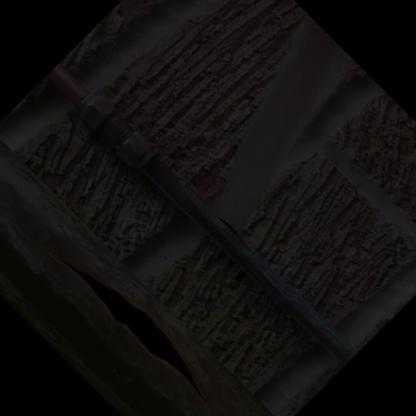burst: (79, 263, 200, 396)
